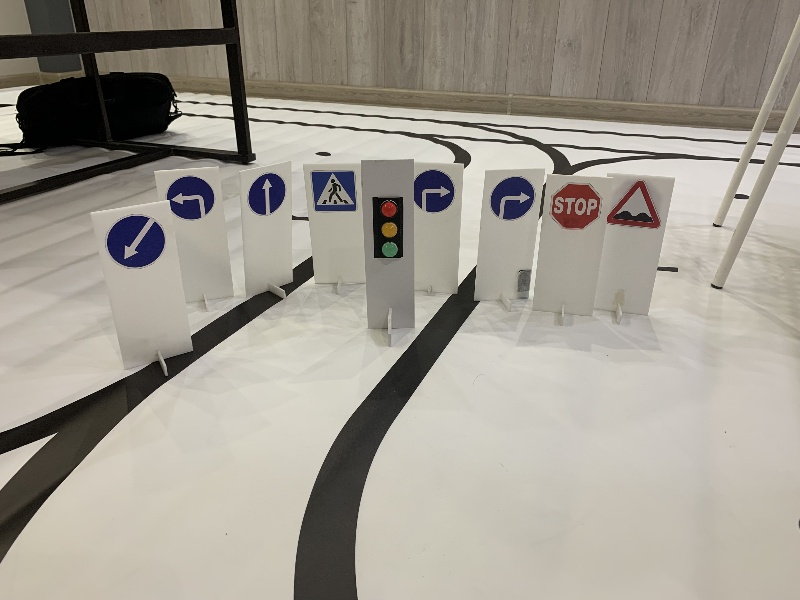Left: (166, 176, 216, 219)
Nerov: (604, 180, 662, 230)
Right: (490, 175, 535, 222), (415, 168, 455, 212)
Stop: (550, 183, 601, 232)
forw: (247, 172, 288, 215)
pesh: (307, 168, 360, 215)
prep: (105, 212, 167, 271)
